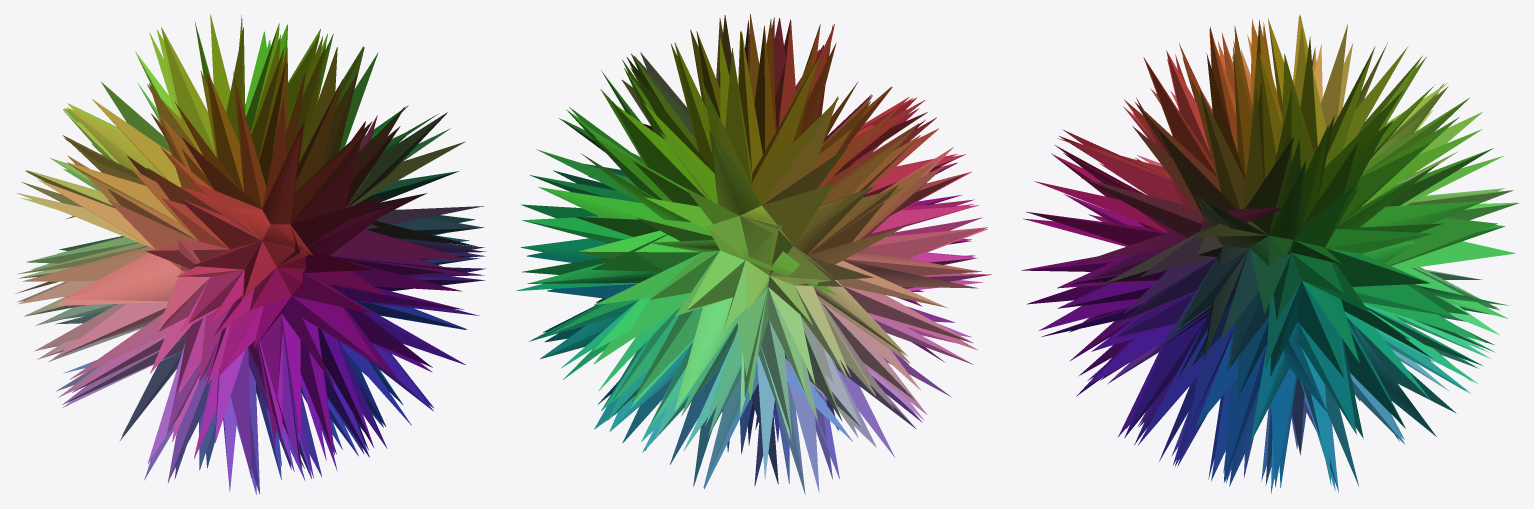
The model's file is zeometry-stars-spikes-spiky-ball_v2.glb.
3 renders of one model, left to right at view 1: azimuth 30°, elevation 25°; view 2: azimuth 150°, elevation 25°; view 3: azimuth 270°, elevation 25°, orthographic. The views are drawn at different scales.
Parts seen in each view (by area): view 1: Spiky Ball_v2; view 2: Spiky Ball_v2; view 3: Spiky Ball_v2.
Part boxes in pixels (x1,y1,x2,y2): Spiky Ball_v2: (15,14,486,494); Spiky Ball_v2: (516,14,992,494); Spiky Ball_v2: (1021,14,1519,493).
Bounding box in the file's own units: 0.4925 × 0.4875 × 0.5.
